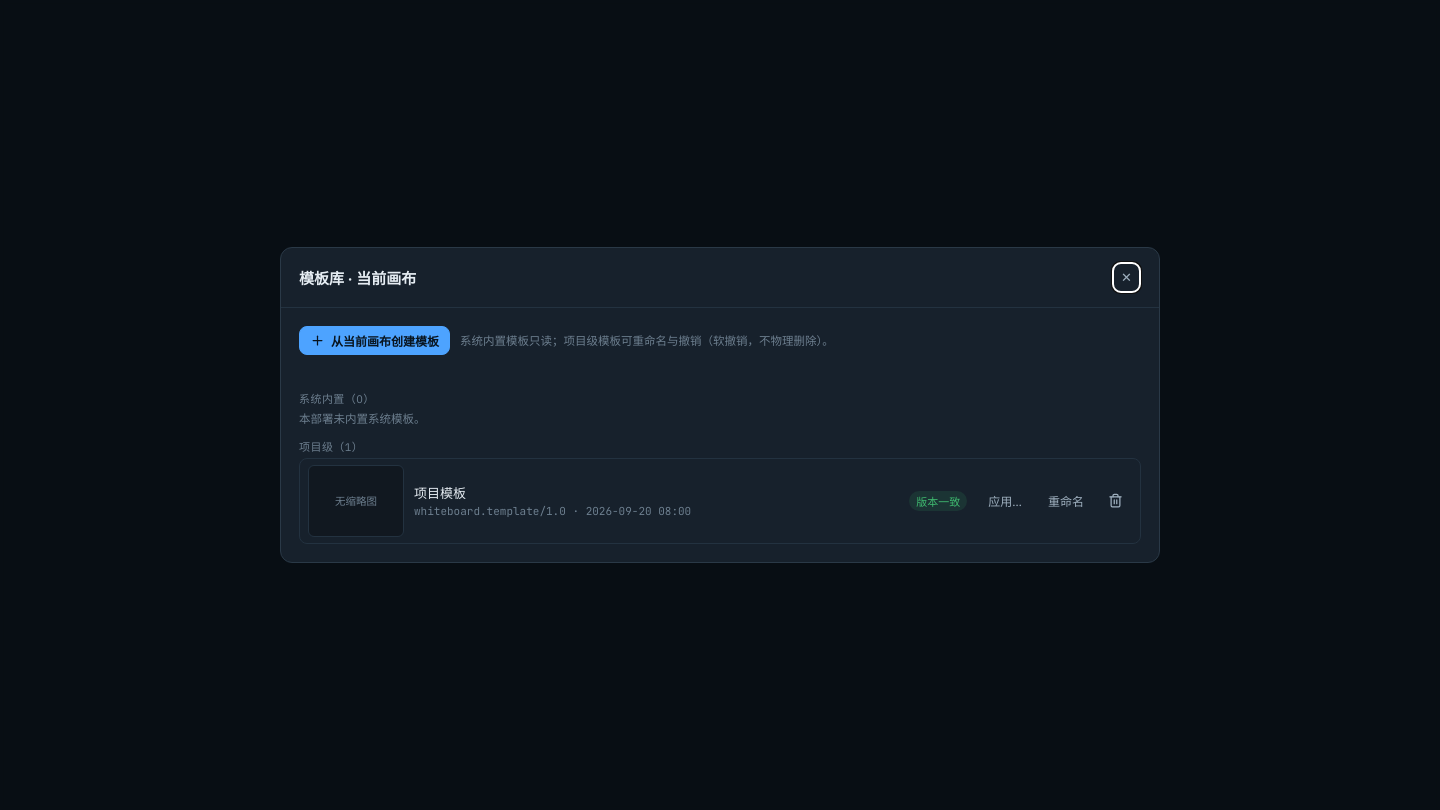
Test case: UI-TMP-04 撤销二次确认与提示文案 › 确认撤销后移出列表并提示已应用内容不受影响
This screenshot has width=1440, height=810.
Click the button named "撤销模板（软撤销）": (1116, 501) [1099,486,1132,515]
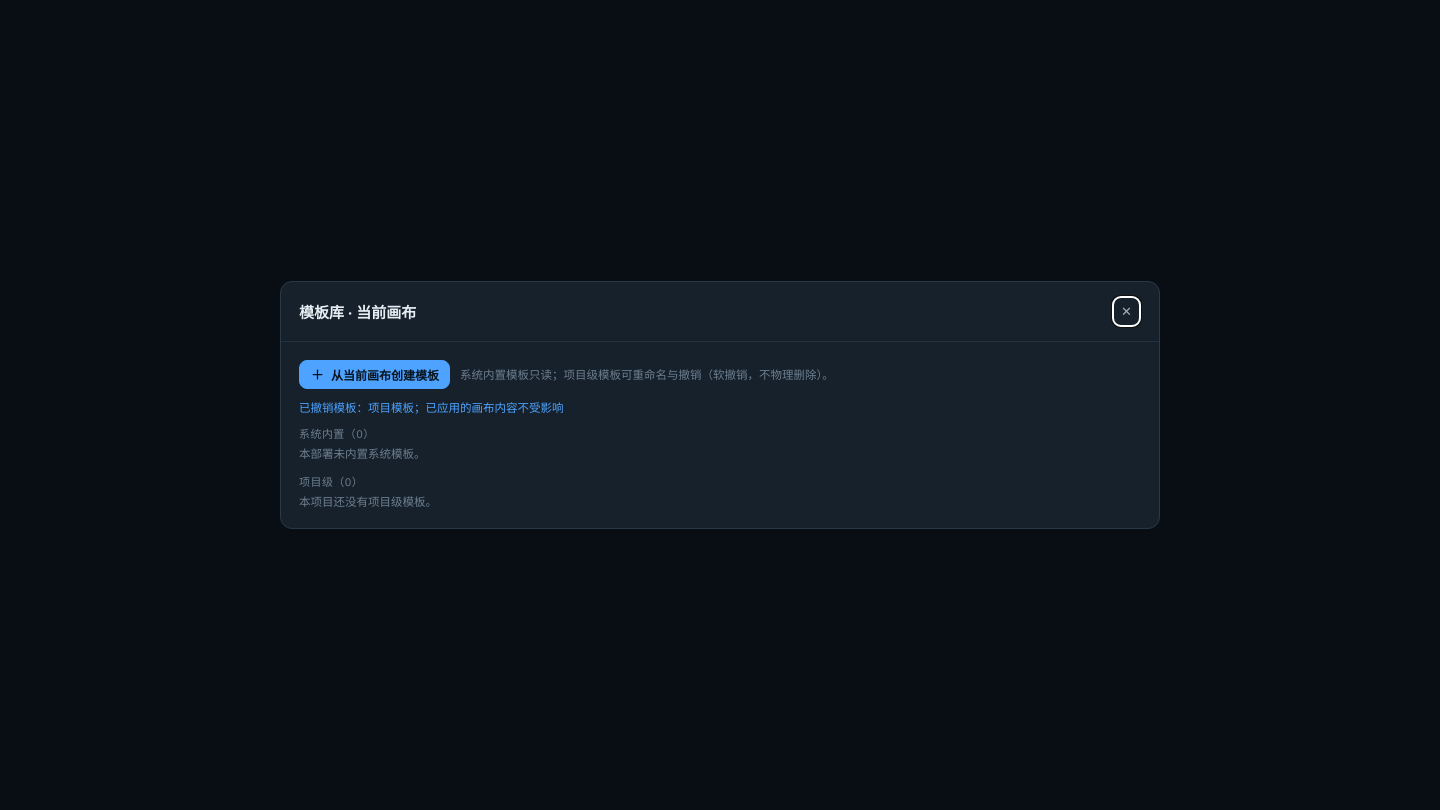
Check: the message with class "layer-panel-status" shows "已应用的画布内容不受影响", box [299,400,564,415]
